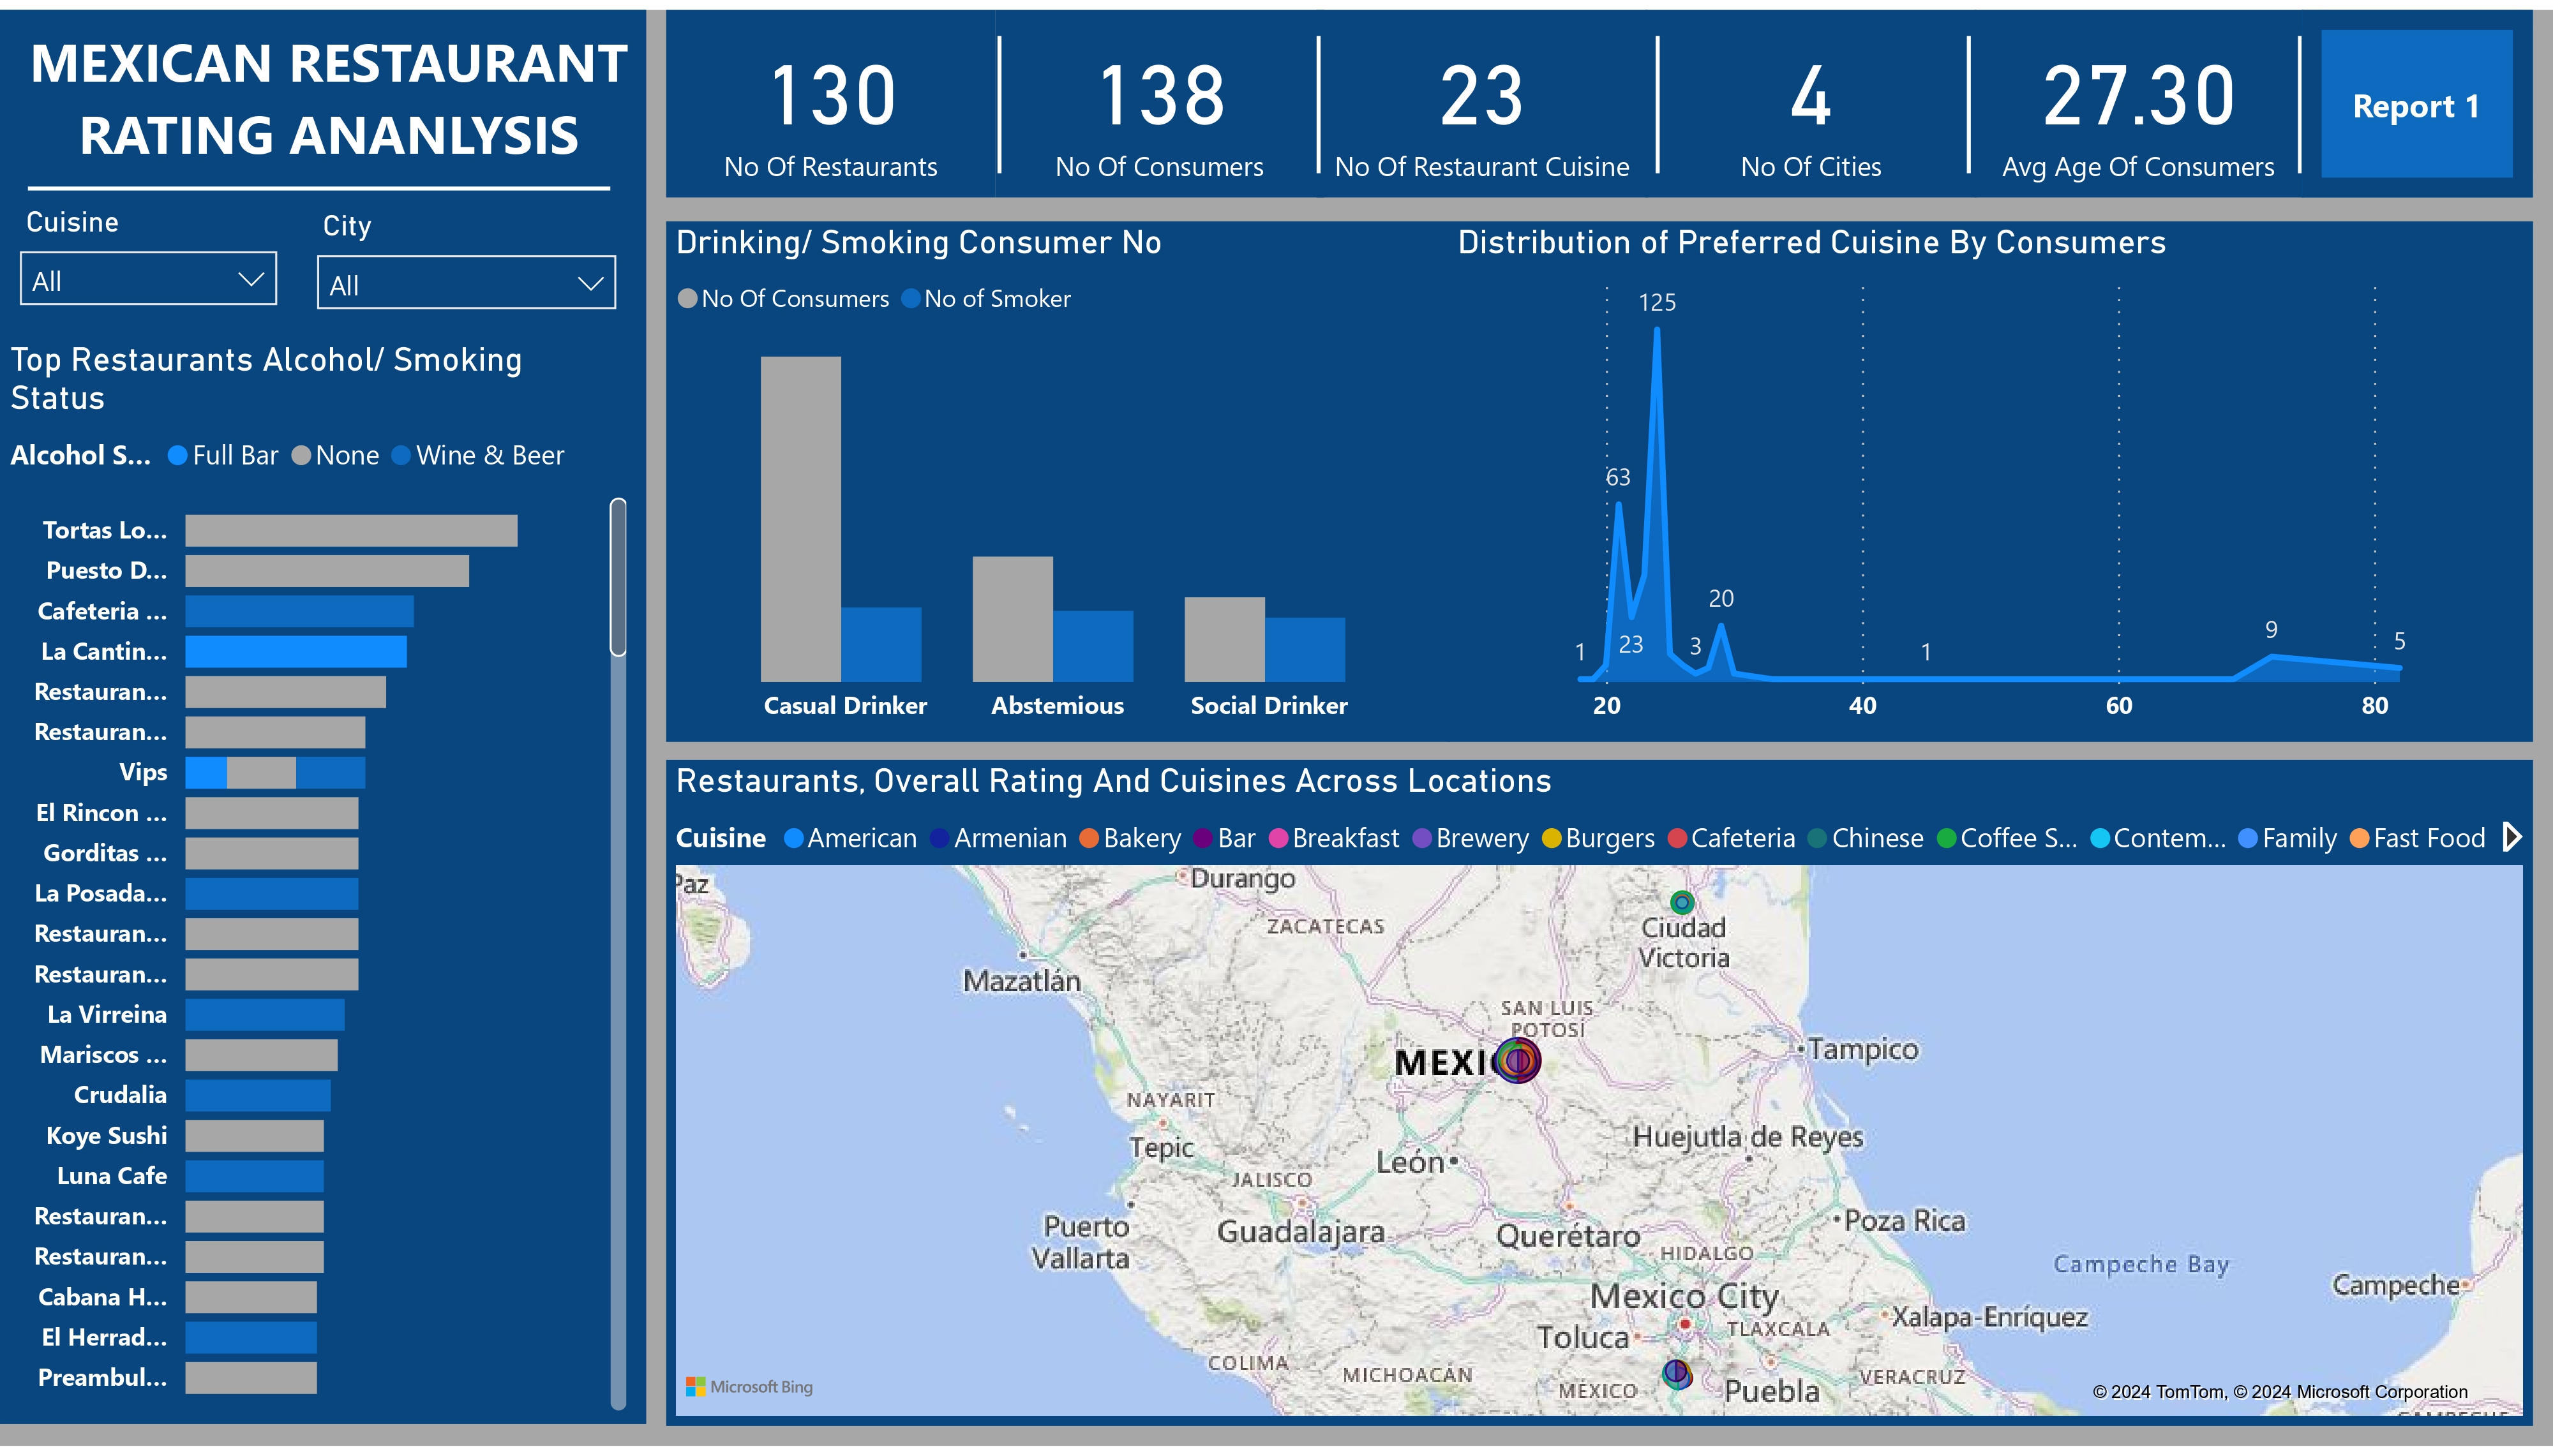

Layout of this report page (visuals, bound fields, positions):
{"tool":"powerbi","page":{"name":"REPORT 2","canvas":[1280,720],"ordinal":1},"visuals":[{"type":"shape","box":[0,0,323.9,709.2],"z":0},{"type":"textbox","box":[6.7,1.7,315.8,87.3],"z":1000},{"type":"card","fields":{"Values":["DAX.No Of Restaurants"]},"box":[333.8,0,165,93.9],"z":3000,"group":"g1"},{"type":"card","fields":{"Values":["DAX.No Of Consumers"]},"box":[498.9,0,164.6,94.1],"z":4000,"group":"g1"},{"type":"card","fields":{"Values":["DAX.No Of Restaurant Cuisine"]},"box":[660.1,0,166.3,94.1],"z":5000,"group":"g1"},{"type":"shape","box":[14,36.8,292.4,105.1],"z":5000},{"type":"card","fields":{"Values":["DAX.No Of Cities"]},"box":[824.7,0,166.3,94.1],"z":6000,"group":"g1"},{"type":"slicer","fields":{"Values":["restaurant_cuisines.Cuisine"]},"box":[0,92.8,148.8,70],"z":6000},{"type":"card","fields":{"Values":["DAX.Avg Age Of Consumers"]},"box":[989.4,0,164.6,94.1],"z":7000,"group":"g1"},{"type":"slicer","fields":{"Values":["restaurants.City"]},"box":[148.8,92.1,170.1,69.4],"z":7000},{"type":"shape","box":[465.3,13.4,72.2,68.9],"z":8000,"group":"g1"},{"type":"map","title":"Restaurants, Overall Rating And Cuisines Across Locations","fields":{"Y":["restaurants.Latitude"],"X":["restaurants.Longitude"],"Series":["restaurant_cuisines.Cuisine"],"Size":["Sum(ratings.Overall_Rating)"]},"box":[334.5,104.9,935.4,605.2],"z":8000},{"type":"group","id":"g1","title":"Group 1","box":[333.8,0,855.5,94.1],"z":9000},{"type":"shape","box":[624.8,13.4,72.2,68.9],"z":9000,"group":"g1"},{"type":"actionButton","box":[1154,0,115.9,94.1],"z":10000},{"type":"shape","box":[794.5,13.4,72.2,68.9],"z":10000,"group":"g1"},{"type":"barChart","title":"Restaurants Rating By   Cuisine","fields":{"Category":["restaurant_cuisines.Cuisine"],"Y":["CountNonNull(restaurant_cuisines.Restaurant_ID)"]},"box":[10.2,164.4,308.4,545.5],"z":10001},{"type":"shape","box":[950.7,13.4,72.2,68.9],"z":11000,"group":"g1"},{"type":"shape","box":[1117,13.4,72.2,68.9],"z":21002,"group":"g1"}]}

Visuals, with their boxes in screenshot pixels (x1, y1, x2, y2), scaled from the page's 1280x720 canvas onto the 2553x1456 screenshot:
shape: region(0, 0, 646, 1434)
textbox: region(13, 3, 643, 180)
card - DAX.No Of Restaurants: region(666, 0, 995, 190)
card - DAX.No Of Consumers: region(995, 0, 1323, 190)
card - DAX.No Of Restaurant Cuisine: region(1317, 0, 1649, 190)
shape: region(28, 75, 611, 287)
card - DAX.No Of Cities: region(1645, 0, 1977, 190)
slicer - restaurant_cuisines.Cuisine: region(0, 188, 297, 329)
card - DAX.Avg Age Of Consumers: region(1973, 0, 2302, 190)
slicer - restaurants.City: region(297, 186, 636, 327)
shape: region(928, 27, 1072, 167)
"Restaurants, Overall Rating And Cuisines Across Locations" map: region(667, 212, 2533, 1436)
"Group 1" group: region(666, 0, 2372, 190)
shape: region(1246, 27, 1390, 167)
actionButton: region(2302, 0, 2533, 190)
shape: region(1585, 27, 1728, 167)
"Restaurants Rating By   Cuisine" barChart: region(20, 332, 636, 1436)
shape: region(1896, 27, 2040, 167)
shape: region(2228, 27, 2372, 167)
